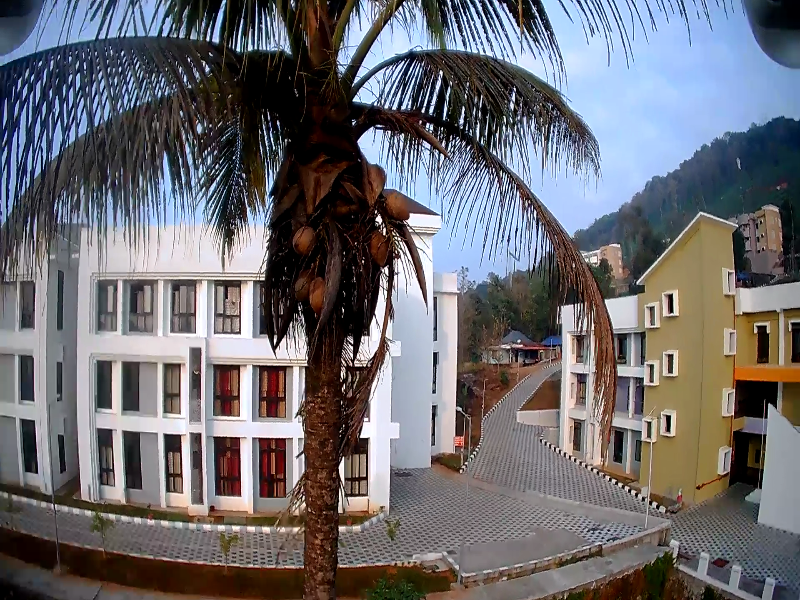coconut: (376, 181, 412, 220), (282, 223, 319, 255), (365, 223, 390, 263), (308, 276, 330, 309), (292, 271, 311, 300)
